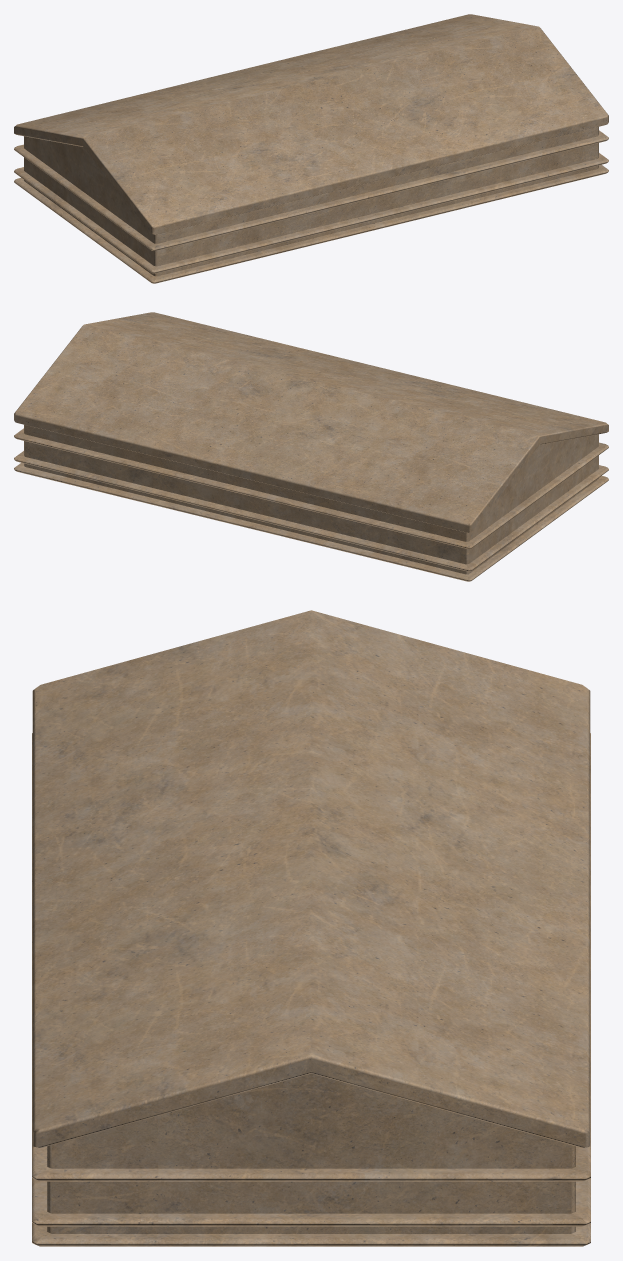
Rendered from SM_MausoleumRoofB.fbx.
The picture shows the model from 3 angles, top to bottom: view 1: azimuth 30°, elevation 25°; view 2: azimuth 150°, elevation 25°; view 3: azimuth 270°, elevation 25°; orthographic projection. The views are drawn at different scales.
Parts seen in each view (by area): view 1: SM_MausoleumRoofB_LOD0; view 2: SM_MausoleumRoofB_LOD0; view 3: SM_MausoleumRoofB_LOD0.
Part boxes in pixels (x1,y1,x2,y2): SM_MausoleumRoofB_LOD0: (14,14,608,283); SM_MausoleumRoofB_LOD0: (14,312,608,581); SM_MausoleumRoofB_LOD0: (32,610,590,1246).
Size of the model in its own units: 294 by 155 by 59.07.
1 material, 1 textured.
